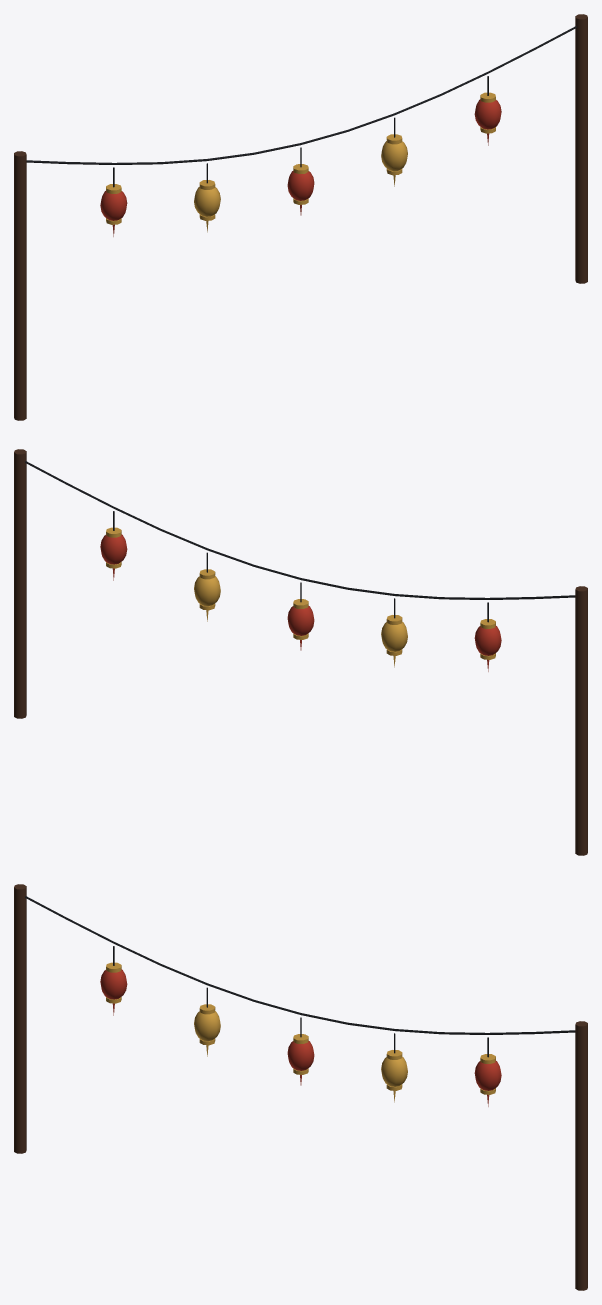
File: lantern_string.glb
3 renders of one model, top to bottom at view 1: azimuth 30°, elevation 25°; view 2: azimuth 150°, elevation 25°; view 3: azimuth 330°, elevation 25°, orthographic.
Visible parts, largest first — view 1: LanternString; view 2: LanternString; view 3: LanternString.
Part boxes in pixels (x1,y1,x2,y2): LanternString: (14, 14, 587, 420); LanternString: (14, 449, 587, 855); LanternString: (14, 884, 587, 1290).
Size of what is drawn, in the model's own units: 8.16 by 3.6 by 0.34.
